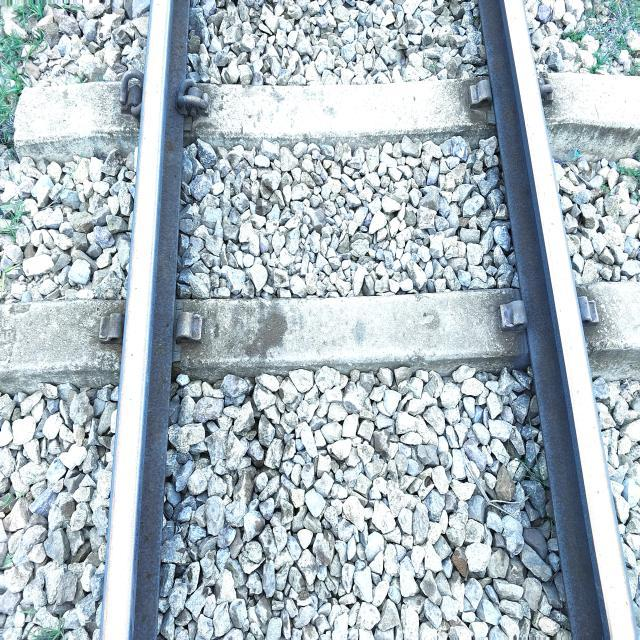Good Fasteners: (102, 52, 144, 155), (177, 54, 214, 128)
Missing Fastener: (450, 65, 507, 164), (537, 39, 585, 146), (486, 274, 528, 396), (75, 283, 128, 377), (173, 299, 222, 374), (574, 275, 623, 349)
